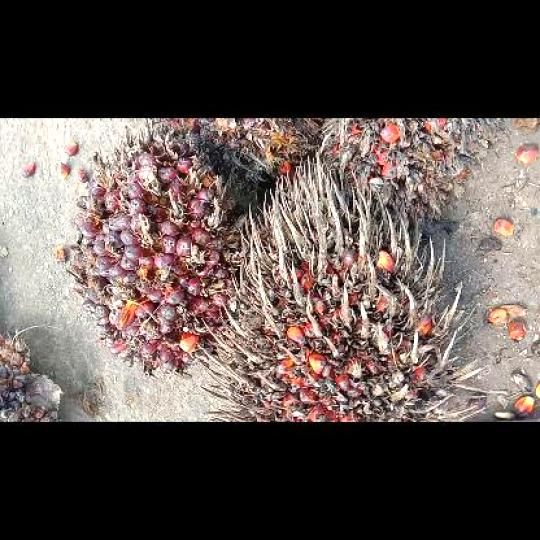masak: (66, 123, 246, 373), (154, 118, 324, 200)
terlalu masak: (198, 153, 487, 421), (320, 118, 498, 222)
